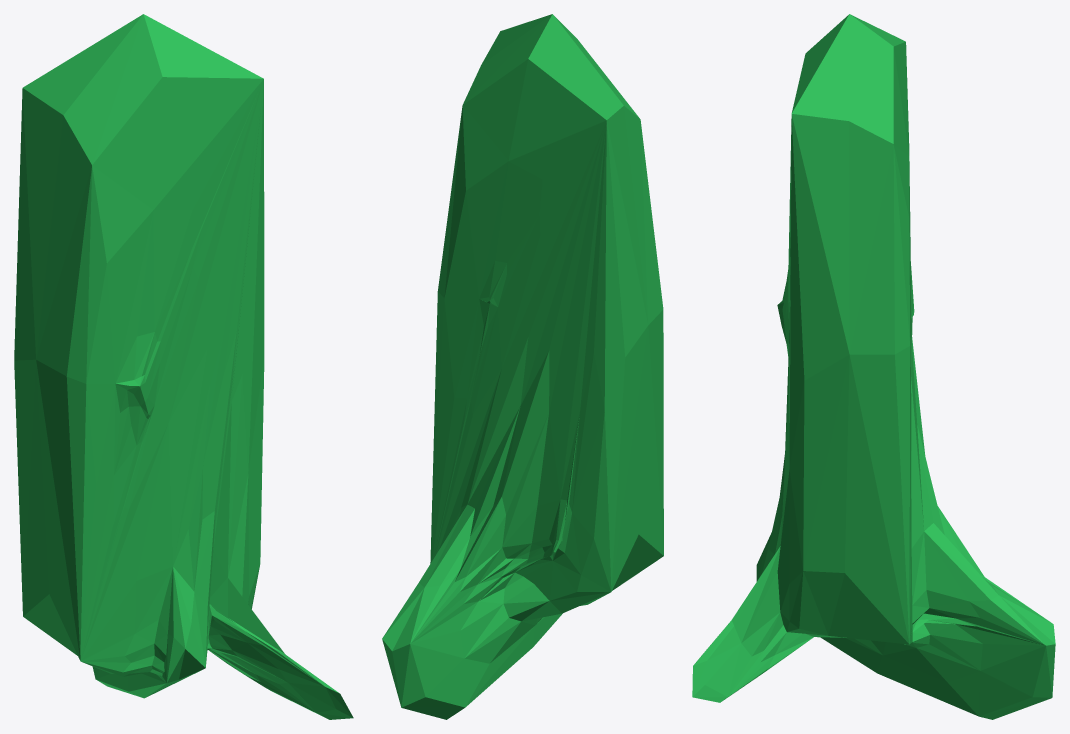
3 renders of one model, left to right at view 1: azimuth 30°, elevation 25°; view 2: azimuth 150°, elevation 25°; view 3: azimuth 270°, elevation 25°, orthographic. The views are drawn at different scales.
Visible parts, largest first — view 1: 398_Cube.1615; view 2: 398_Cube.1615; view 3: 398_Cube.1615.
Boxes of the visible parts, left/top/right/bottom form: 398_Cube.1615: left=14, top=14, right=353, bottom=719; 398_Cube.1615: left=382, top=14, right=663, bottom=719; 398_Cube.1615: left=692, top=14, right=1055, bottom=719.
Bounding box in the file's own units: 4.69 × 14.22 × 6.81.
